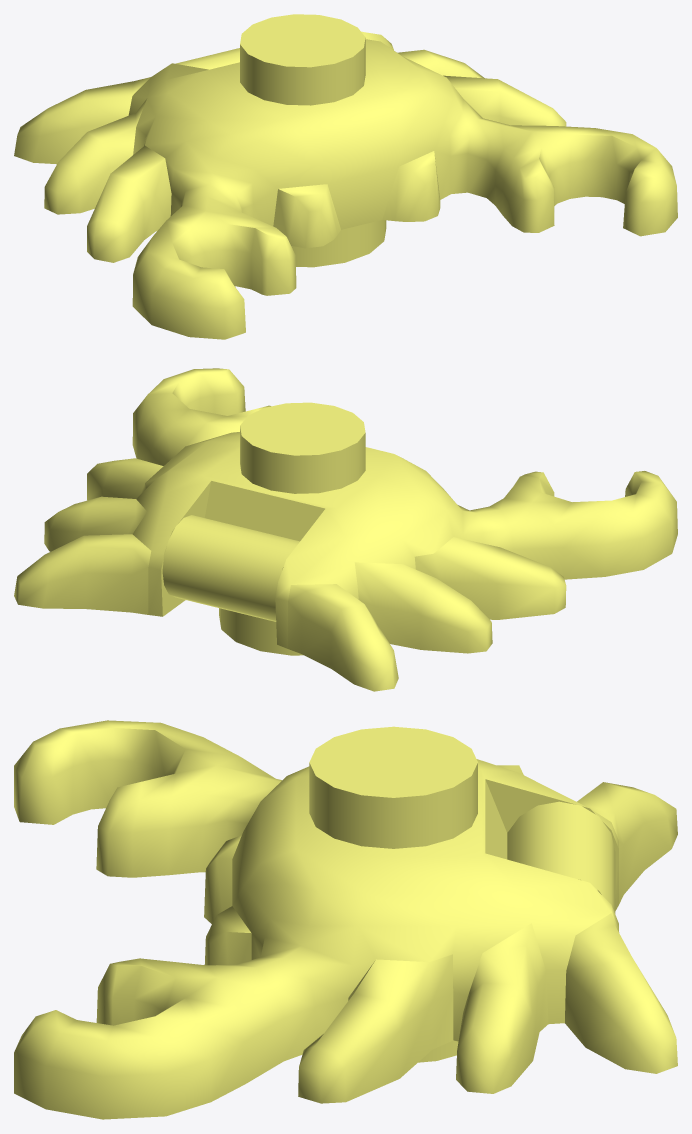
3 renders of one model, top to bottom at view 1: azimuth 30°, elevation 25°; view 2: azimuth 150°, elevation 25°; view 3: azimuth 270°, elevation 25°, orthographic. The views are drawn at different scales.
Parts seen in each view (by area): view 1: 33121.dat; view 2: 33121.dat; view 3: 33121.dat.
Boxes of the visible parts, <box> form: 33121.dat: <box>14,14,677,339</box>; 33121.dat: <box>14,368,677,691</box>; 33121.dat: <box>14,720,677,1119</box>.
Size of the model in its own units: 0.0228 by 0.008 by 0.0189.
